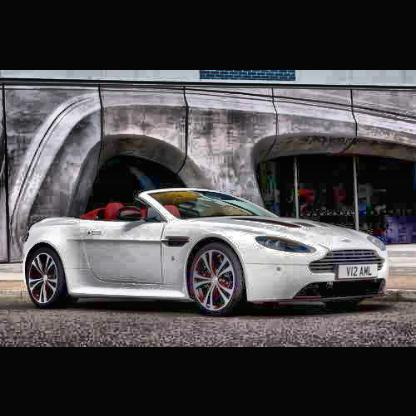Aston Martin V8 Vantage Convertible 2012: (19, 188, 395, 341)
